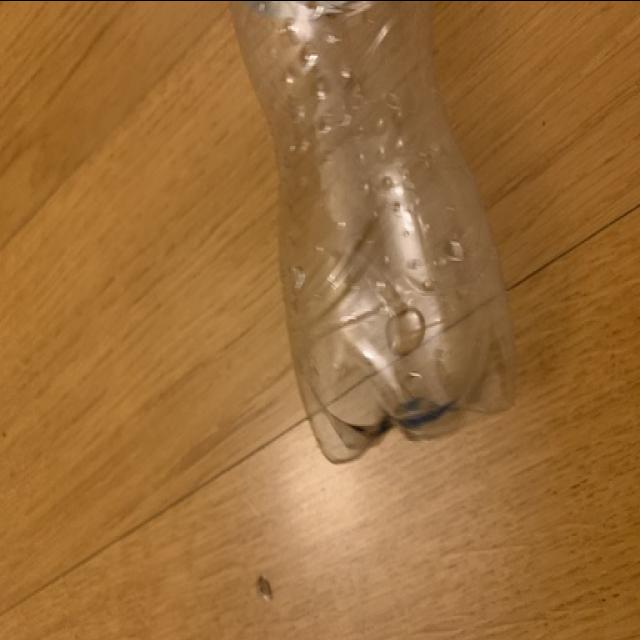PET: (218, 0, 526, 462)
